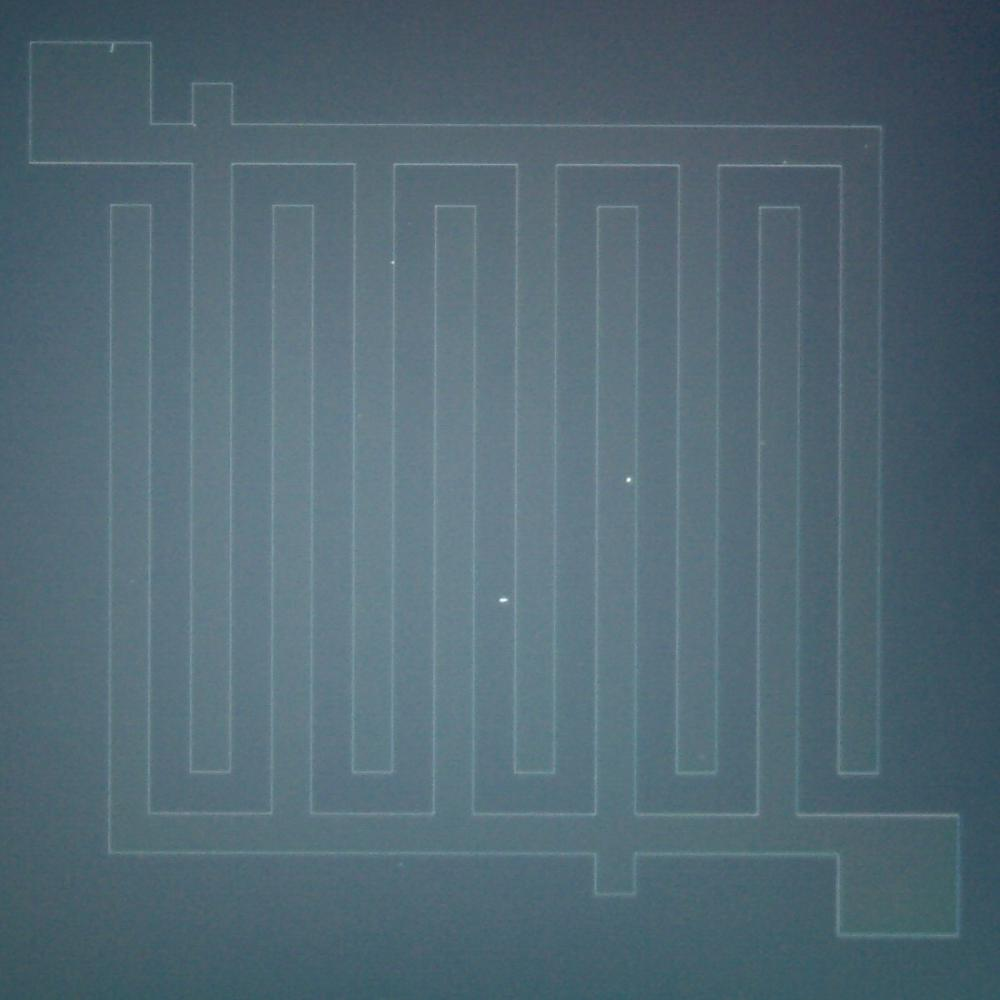dot: (106, 44, 116, 53), (500, 597, 508, 604), (193, 123, 197, 127), (782, 160, 786, 164), (391, 260, 395, 264), (627, 478, 631, 482)
